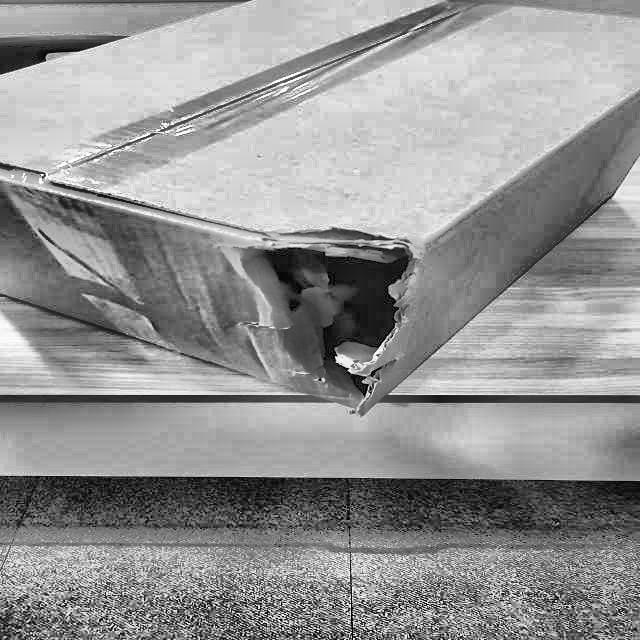box: (0, 0, 639, 422)
hole: (230, 229, 437, 409)
